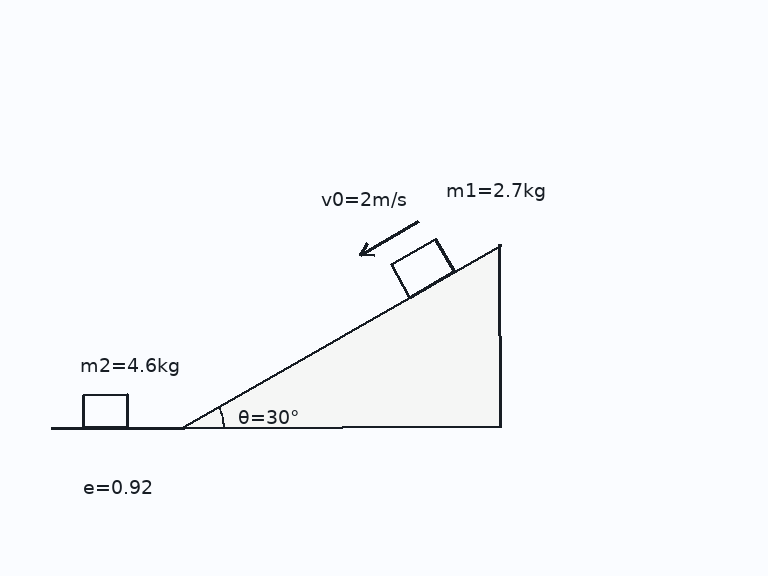block: (389, 237, 456, 299), (81, 393, 129, 429)
ramp: (182, 242, 502, 429)
